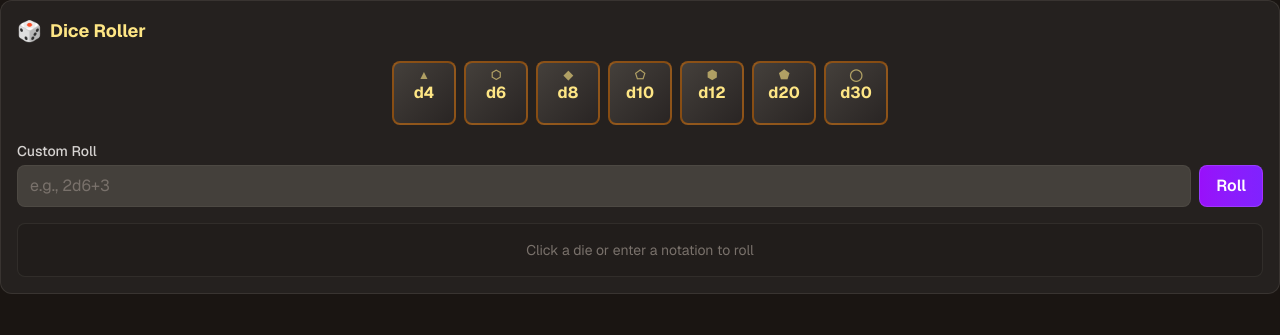
Scenario: DiceRoller › custom notation input › should show error for empty notation
Click the button "Roll": [1231, 186] box [1199,165,1263,207]
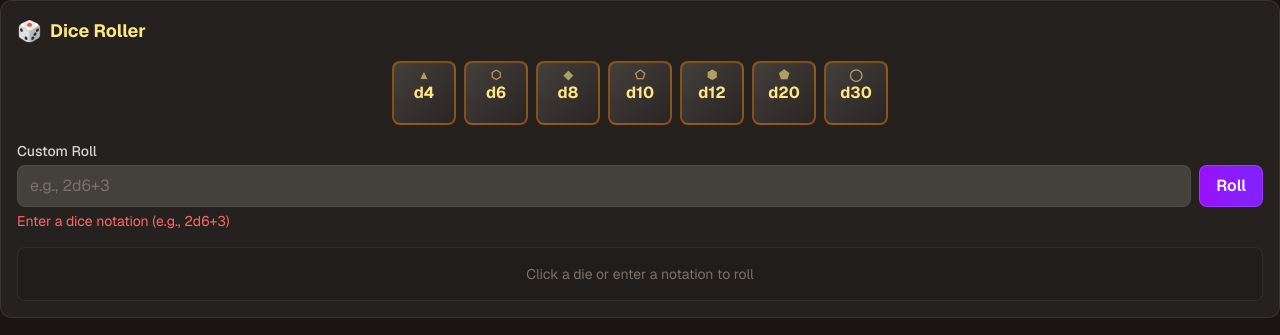
Check: the text "Enter a dice notation (e.g., 2d6+3)" is shown, box [17,212,230,230]
